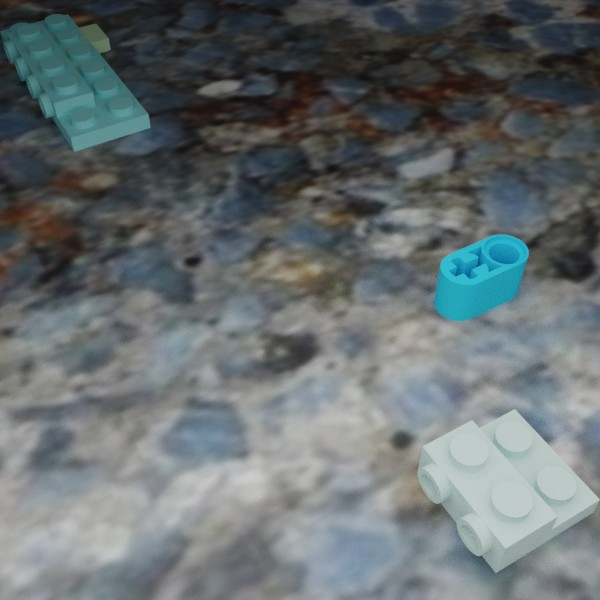lego: (417, 409, 600, 573), (0, 14, 150, 151), (434, 234, 528, 321), (27, 23, 110, 85)
